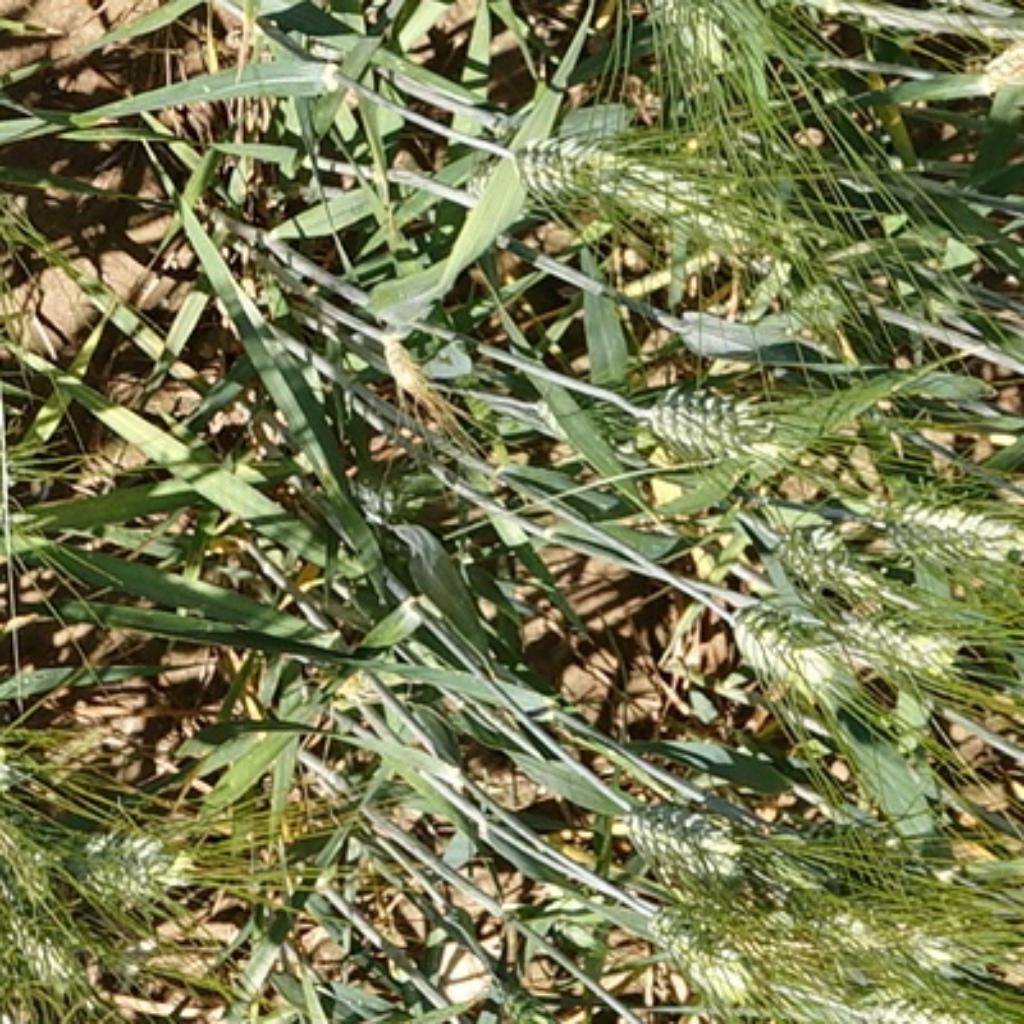0-0: (511, 125, 735, 229), (632, 883, 796, 1021), (709, 596, 867, 719), (627, 373, 803, 476), (614, 778, 757, 883), (58, 803, 192, 908), (862, 476, 1011, 570), (814, 901, 1008, 970), (832, 606, 975, 683), (747, 519, 865, 599), (7, 919, 115, 1006), (604, 0, 747, 53), (0, 807, 57, 912), (781, 278, 846, 342), (378, 335, 430, 401)
